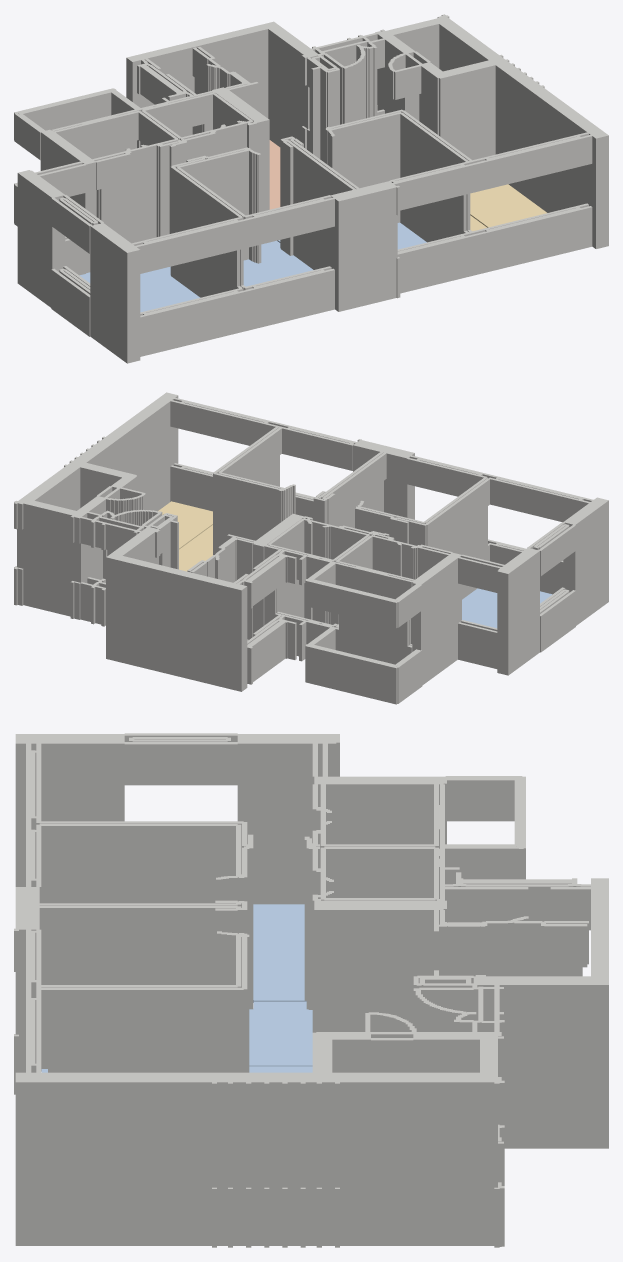
3 views of the same model, one above another, from view 1: azimuth 30°, elevation 25°; view 2: azimuth 150°, elevation 25°; view 3: azimuth 270°, elevation 25° (orthographic). The views are drawn at different scales.
Parts seen in each view (by area): view 1: walls, room:living:9, room:bedroom:3, room:bedroom:6, room:kitchen:1, room:bedroom:7; view 2: walls, room:bedroom:3, room:living:9, room:living:8; view 3: walls, room:bedroom:3, room:bedroom:6.
Part boxes in pixels (box(x1,y1,x2,y2)): walls: box(14, 14, 608, 363); room:living:9: box(470, 184, 546, 227); room:bedroom:3: box(79, 266, 200, 312); room:bedroom:6: box(243, 240, 313, 286); room:kitchen:1: box(269, 140, 280, 209); room:bedroom:7: box(277, 222, 426, 249); walls: box(14, 392, 608, 704); room:bedroom:3: box(462, 588, 552, 628); room:living:9: box(158, 501, 212, 549); room:living:8: box(179, 525, 212, 571); walls: box(14, 733, 608, 1247); room:bedroom:3: box(253, 904, 306, 1002); room:bedroom:6: box(249, 1001, 312, 1066).
Size of the model in its own units: 12.84 by 2.8 by 9.22.
